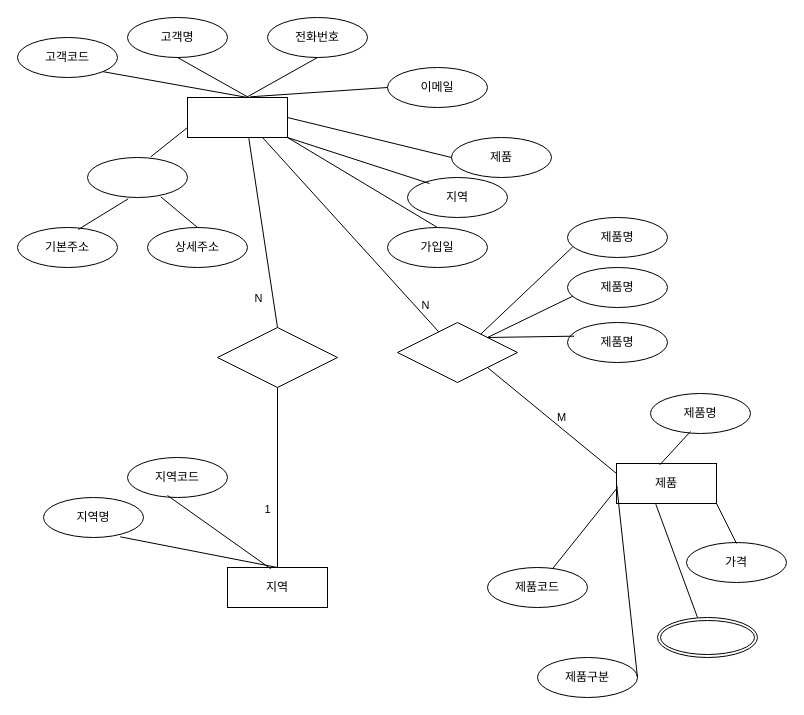
Image size: 804x715. Some labels were removed from this diagram. Here are the shapes that lost their labels. From the top down, the box of each, then its label:
(186, 96, 288, 138): 고객
(86, 156, 188, 198): 주소
(216, 326, 338, 388): 관리
(396, 322, 518, 382): 구매
(656, 616, 758, 658): 제품색상
